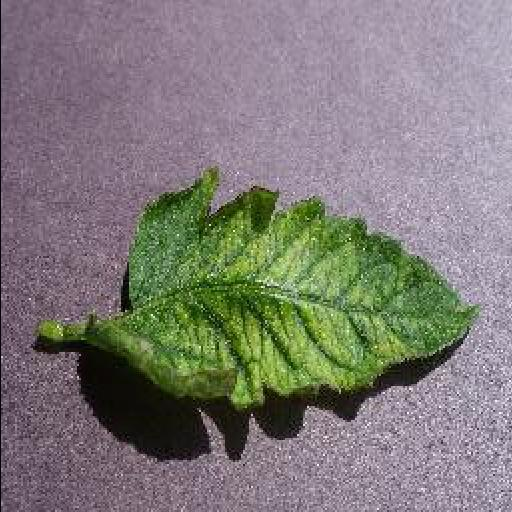Mosaic Virus: (90, 160, 480, 408)
